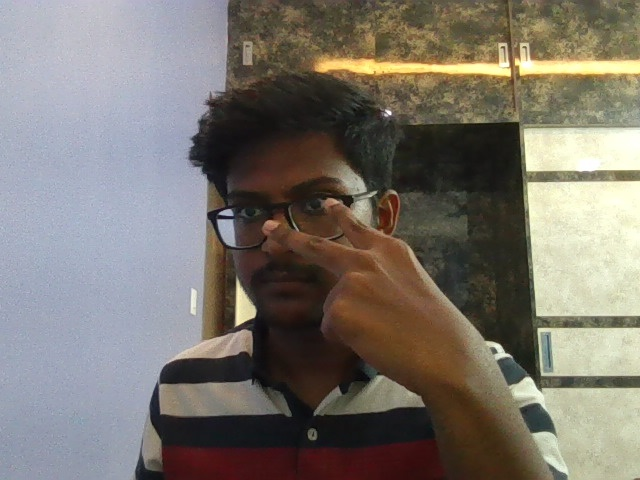see: (241, 201, 488, 394)
